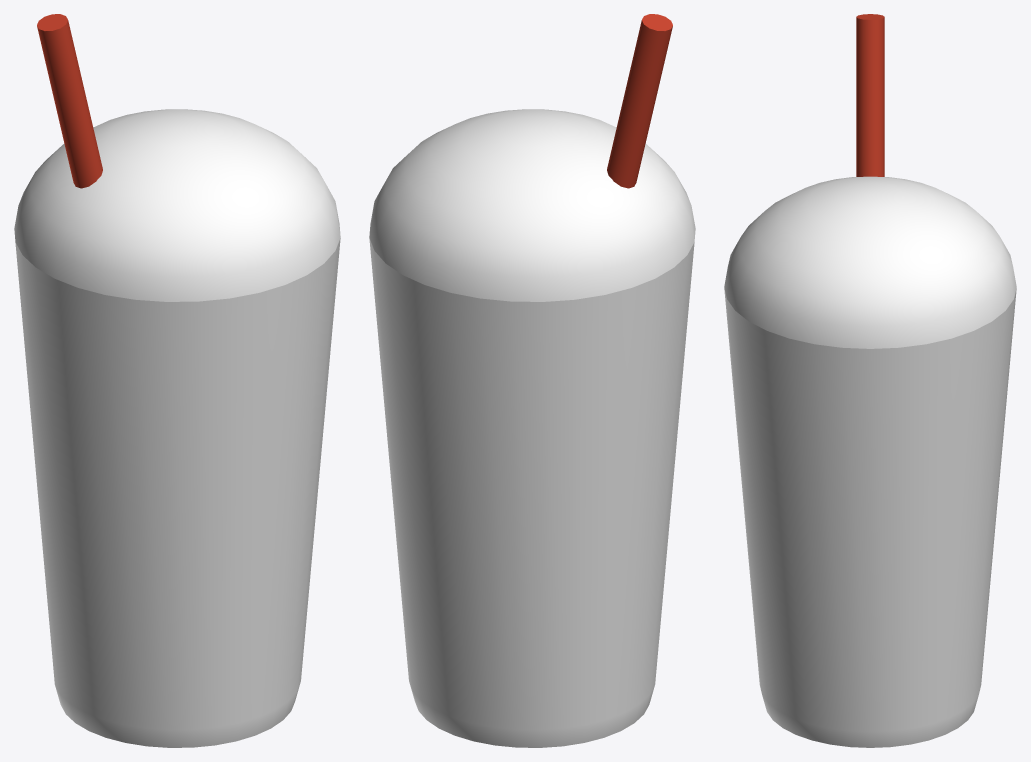
File: smoothie.glb
3 renders of one model, left to right at view 1: azimuth 30°, elevation 25°; view 2: azimuth 150°, elevation 25°; view 3: azimuth 270°, elevation 25°, orthographic. The views are drawn at different scales.
Visible parts, largest first — view 1: smoothie; view 2: smoothie; view 3: smoothie.
Boxes of the visible parts, <box> form: smoothie: <box>14,14,340,747</box>; smoothie: <box>369,14,695,747</box>; smoothie: <box>724,14,1016,747</box>.
Size of the model in its own units: 0.086 by 0.2059 by 0.086.
